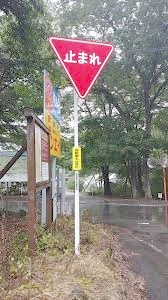Regulatory_sign_triangle: (42, 32, 126, 106)
